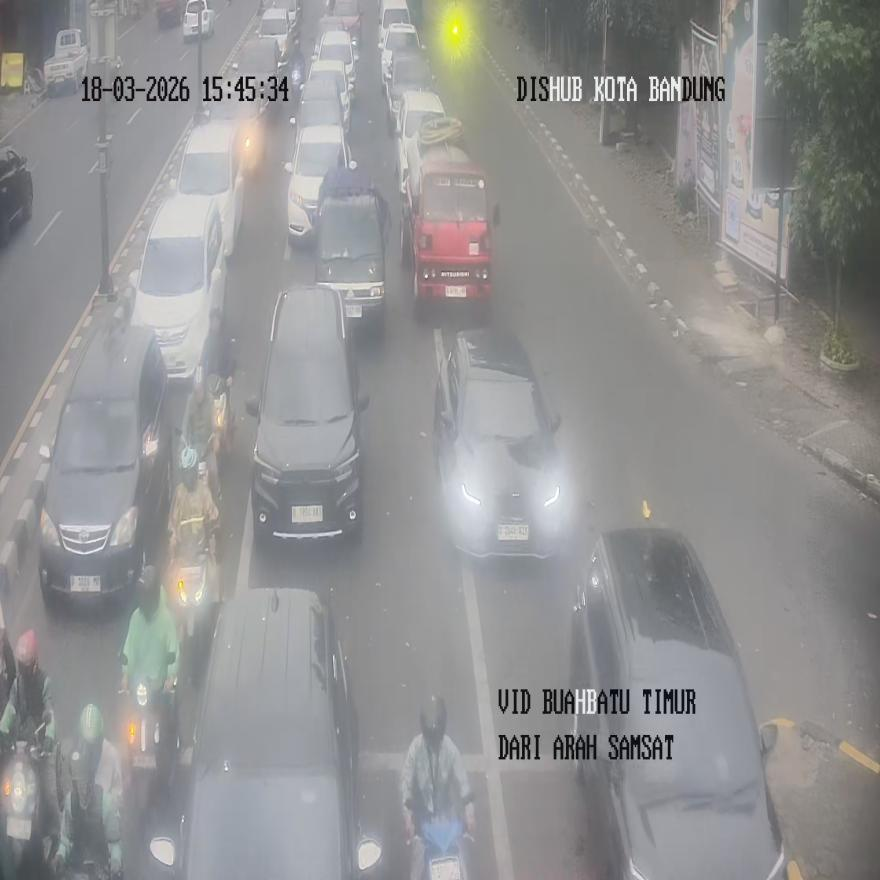Motor: (569, 528, 788, 877), (148, 588, 383, 878), (37, 320, 170, 603), (432, 328, 569, 560), (246, 285, 368, 542), (128, 192, 226, 381), (402, 118, 500, 305), (314, 162, 388, 329), (171, 118, 244, 258)
Truk: (118, 655, 180, 826), (0, 728, 61, 880), (166, 516, 220, 685), (412, 817, 474, 879)
